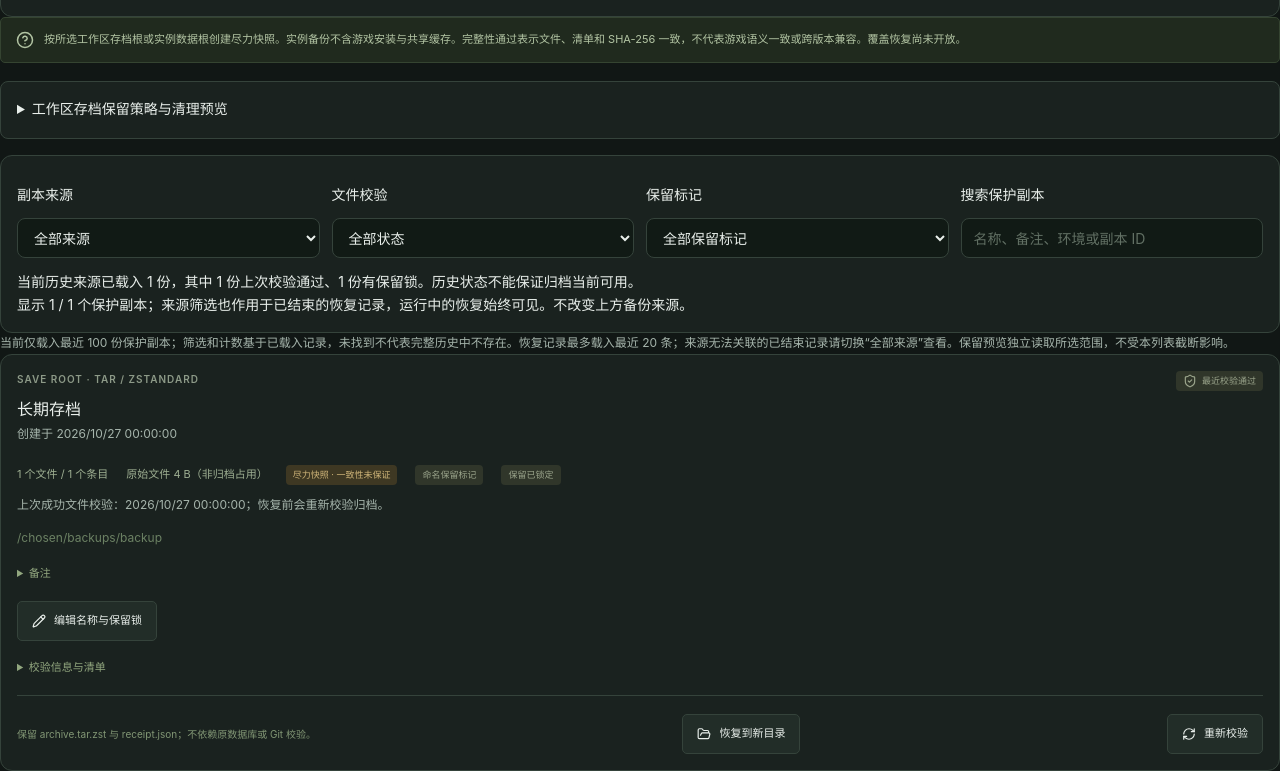
it: full backup confirmation and integrity display › shows names and retention markers without hiding creation time or implying filesystem locks
(page scrolled)
Expected: the heading "长期存档" is shown, [17,399,81,419]
Expected: the text "创建于 2026/10/27 00:00:00" is shown, [17,426,177,441]
Click the button "编辑名称与保留锁".
click(87, 621)  # box [17,601,157,641]
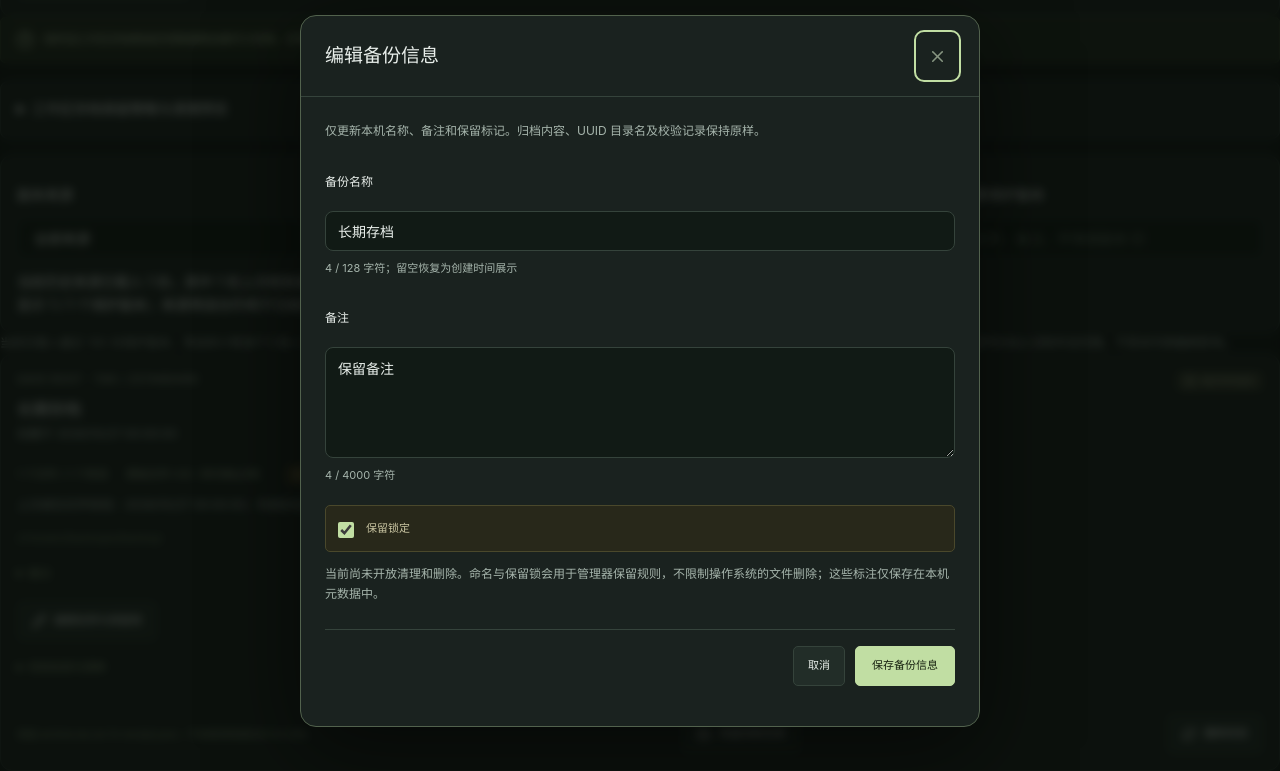
Now the text "当前尚未开放清理和删除。命名与保留锁会用于管理器保留规则，不限制操作系统的文件删除；这些标注仅保存在本机元数据中。" is shown, box [325,564,955,605]
